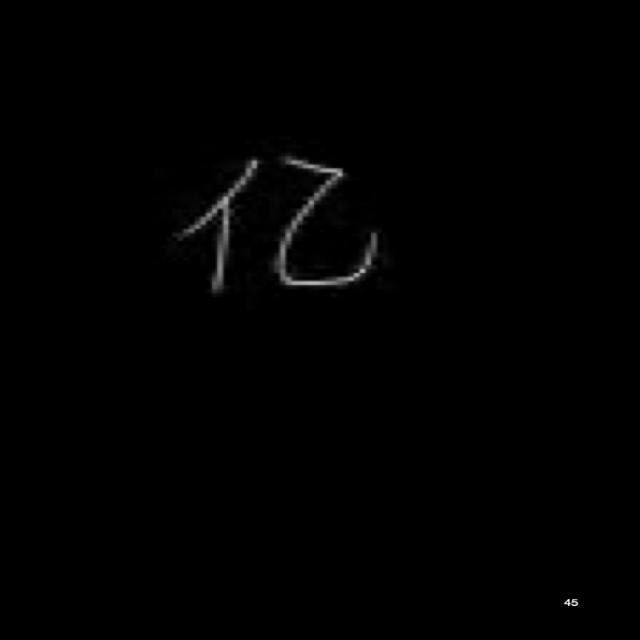100000 -a hundred thousand-: (158, 138, 394, 304)
